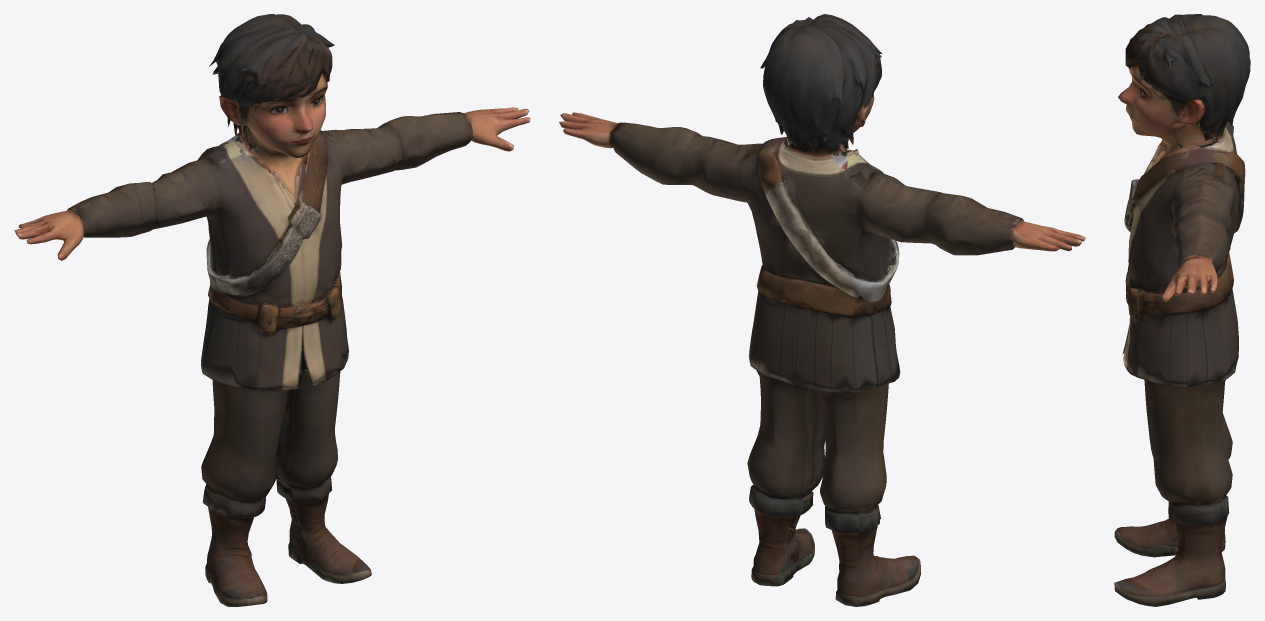
The model's file is realistic_NPC_young_m_0701130258_texture.fbx.
3 views of the same model, side by side, from view 1: azimuth 30°, elevation 25°; view 2: azimuth 150°, elevation 25°; view 3: azimuth 270°, elevation 25° (orthographic).
Visible parts, largest first — view 1: Mesh1; view 2: Mesh1; view 3: Mesh1.
Boxes of the visible parts, x1,y1,x2,y2 form: Mesh1: (14, 14, 530, 606); Mesh1: (559, 14, 1085, 606); Mesh1: (1114, 14, 1250, 606).
Bounding box in the file's own units: 194 × 199 × 44.18.
1 material, 1 textured.
